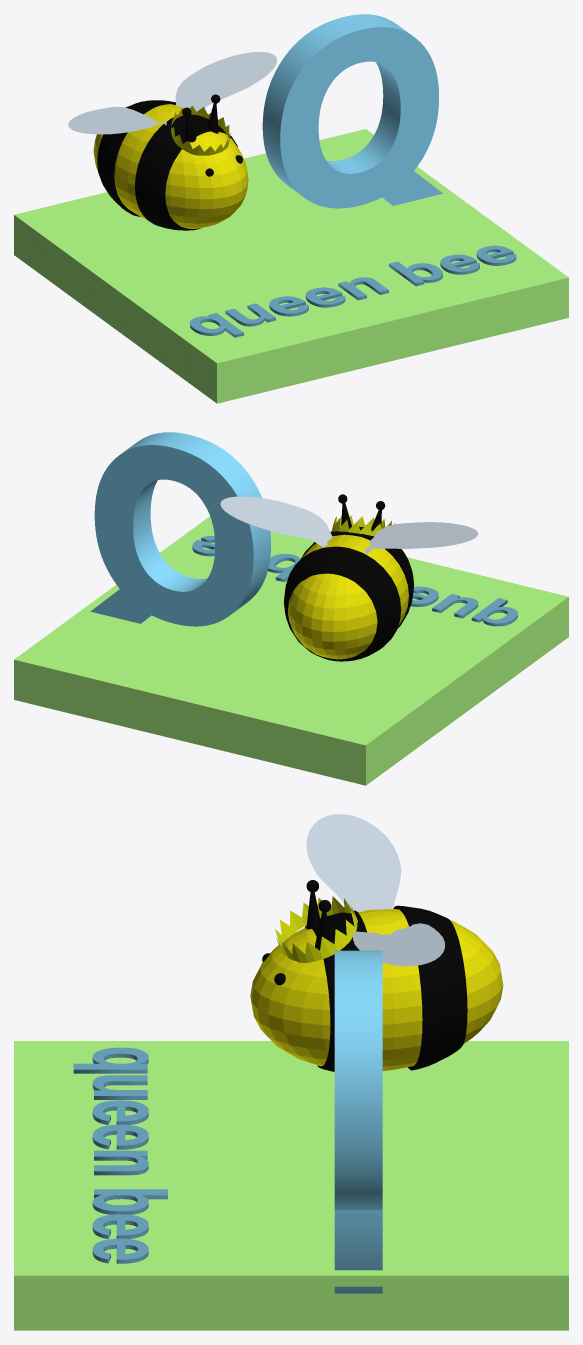
Rendered from qletter.glb.
3 renders of one model, top to bottom at view 1: azimuth 30°, elevation 25°; view 2: azimuth 150°, elevation 25°; view 3: azimuth 270°, elevation 25°, orthographic. The views are drawn at different scales.
Visible parts, largest first — view 1: Cube.022, Text.003, Sphere, Text.002, Cube.001, Circle.001, Circle, Cube.002, Circle.002; view 2: Cube.022, Text.003, Sphere, Cube.002, Circle.001, Text.002, Circle, Cube.001, Circle.002; view 3: Cube.022, Text.003, Sphere, Text.002, Circle, Cube.002, Circle.001, Circle.002, Cube.001.
Boxes of the visible parts, left/top/right/bottom form: Cube.022: left=14, top=129, right=568, bottom=403; Text.003: left=262, top=14, right=442, bottom=208; Sphere: left=93, top=104, right=248, bottom=228; Text.002: left=190, top=245, right=516, bottom=337; Cube.001: left=135, top=114, right=237, bottom=230; Circle.001: left=175, top=51, right=277, bottom=111; Circle: left=68, top=106, right=166, bottom=134; Cube.002: left=97, top=100, right=175, bottom=216; Circle.002: left=171, top=105, right=230, bottom=155; Cube.022: left=14, top=516, right=568, bottom=785; Text.003: left=90, top=432, right=270, bottom=626; Sphere: left=288, top=534, right=408, bottom=659; Cube.002: left=284, top=546, right=401, bottom=661; Circle.001: left=220, top=496, right=332, bottom=547; Text.002: left=192, top=536, right=517, bottom=626; Circle: left=365, top=522, right=478, bottom=554; Cube.001: left=300, top=526, right=413, bottom=628; Circle.002: left=332, top=515, right=395, bottom=536; Cube.022: left=14, top=1041, right=568, bottom=1330; Text.003: left=334, top=950, right=382, bottom=1293; Sphere: left=250, top=909, right=503, bottom=1071; Text.002: left=73, top=1047, right=167, bottom=1263; Circle: left=306, top=814, right=401, bottom=911; Cube.002: left=393, top=905, right=467, bottom=1070; Circle.001: left=353, top=923, right=444, bottom=966; Circle.002: left=275, top=896, right=357, bottom=962; Cube.001: left=304, top=910, right=366, bottom=1071.
Bounding box in the file's own units: 0.3512 × 0.1971 × 0.3237.
